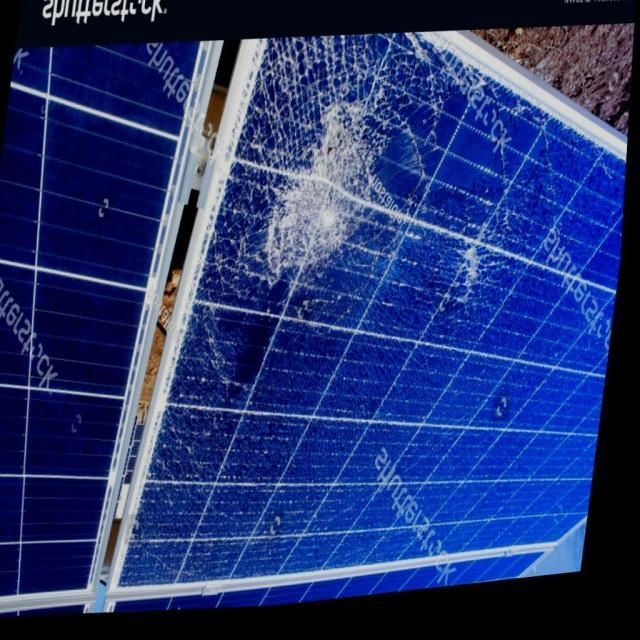cracked: (114, 32, 624, 574)
